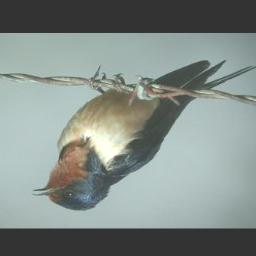Swallow: (32, 60, 256, 212)
